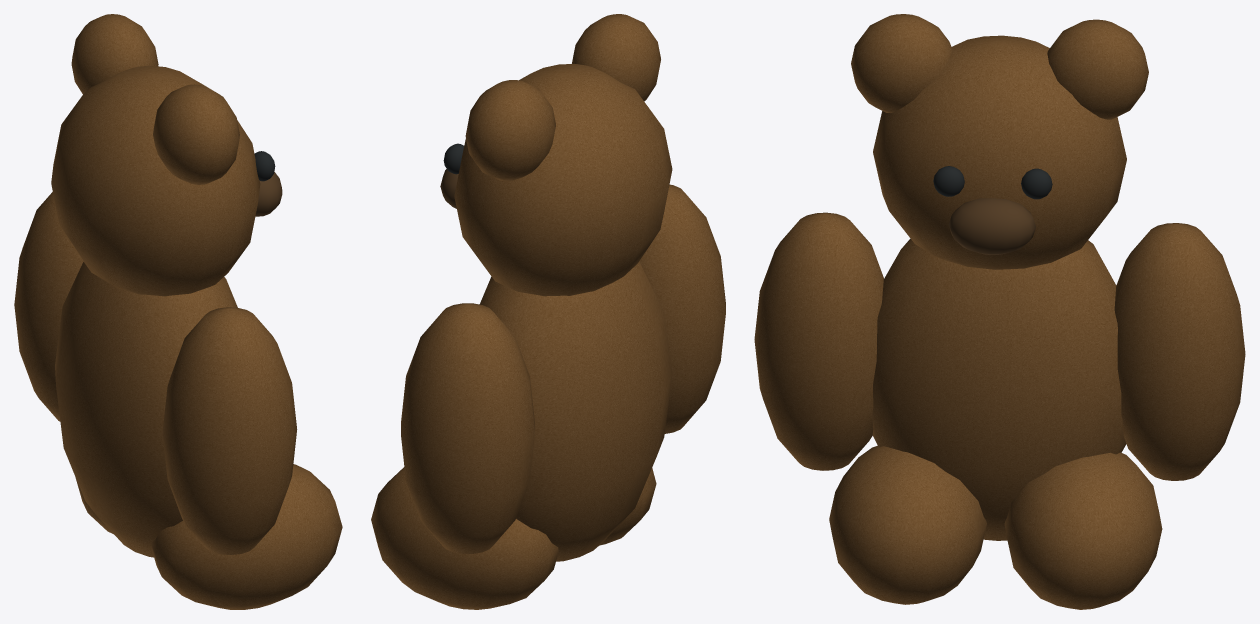
File: SM_TeddyPrize_2bb59517e9.fbx
3 views of the same model, side by side, from view 1: azimuth 30°, elevation 25°; view 2: azimuth 150°, elevation 25°; view 3: azimuth 270°, elevation 25° (orthographic). The views are drawn at different scales.
Parts seen in each view (by area): view 1: SM_TeddyPrize_2bb59517e9; view 2: SM_TeddyPrize_2bb59517e9; view 3: SM_TeddyPrize_2bb59517e9.
Part boxes in pixels (left/top/right/bottom): SM_TeddyPrize_2bb59517e9: left=14, top=14, right=342, bottom=609; SM_TeddyPrize_2bb59517e9: left=371, top=14, right=725, bottom=609; SM_TeddyPrize_2bb59517e9: left=754, top=14, right=1245, bottom=609.
Size of what is drawn, in the model's own units: 30.19 by 53.35 by 65.89.
Materials: 3 (1 with a texture image).
